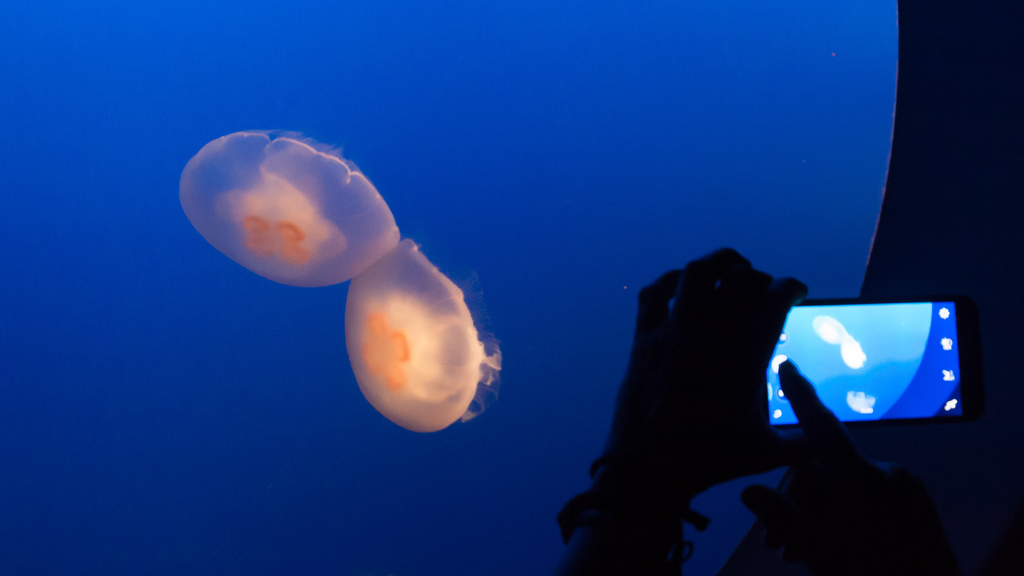Jellyfish: (174, 126, 504, 434), (810, 315, 866, 370)
